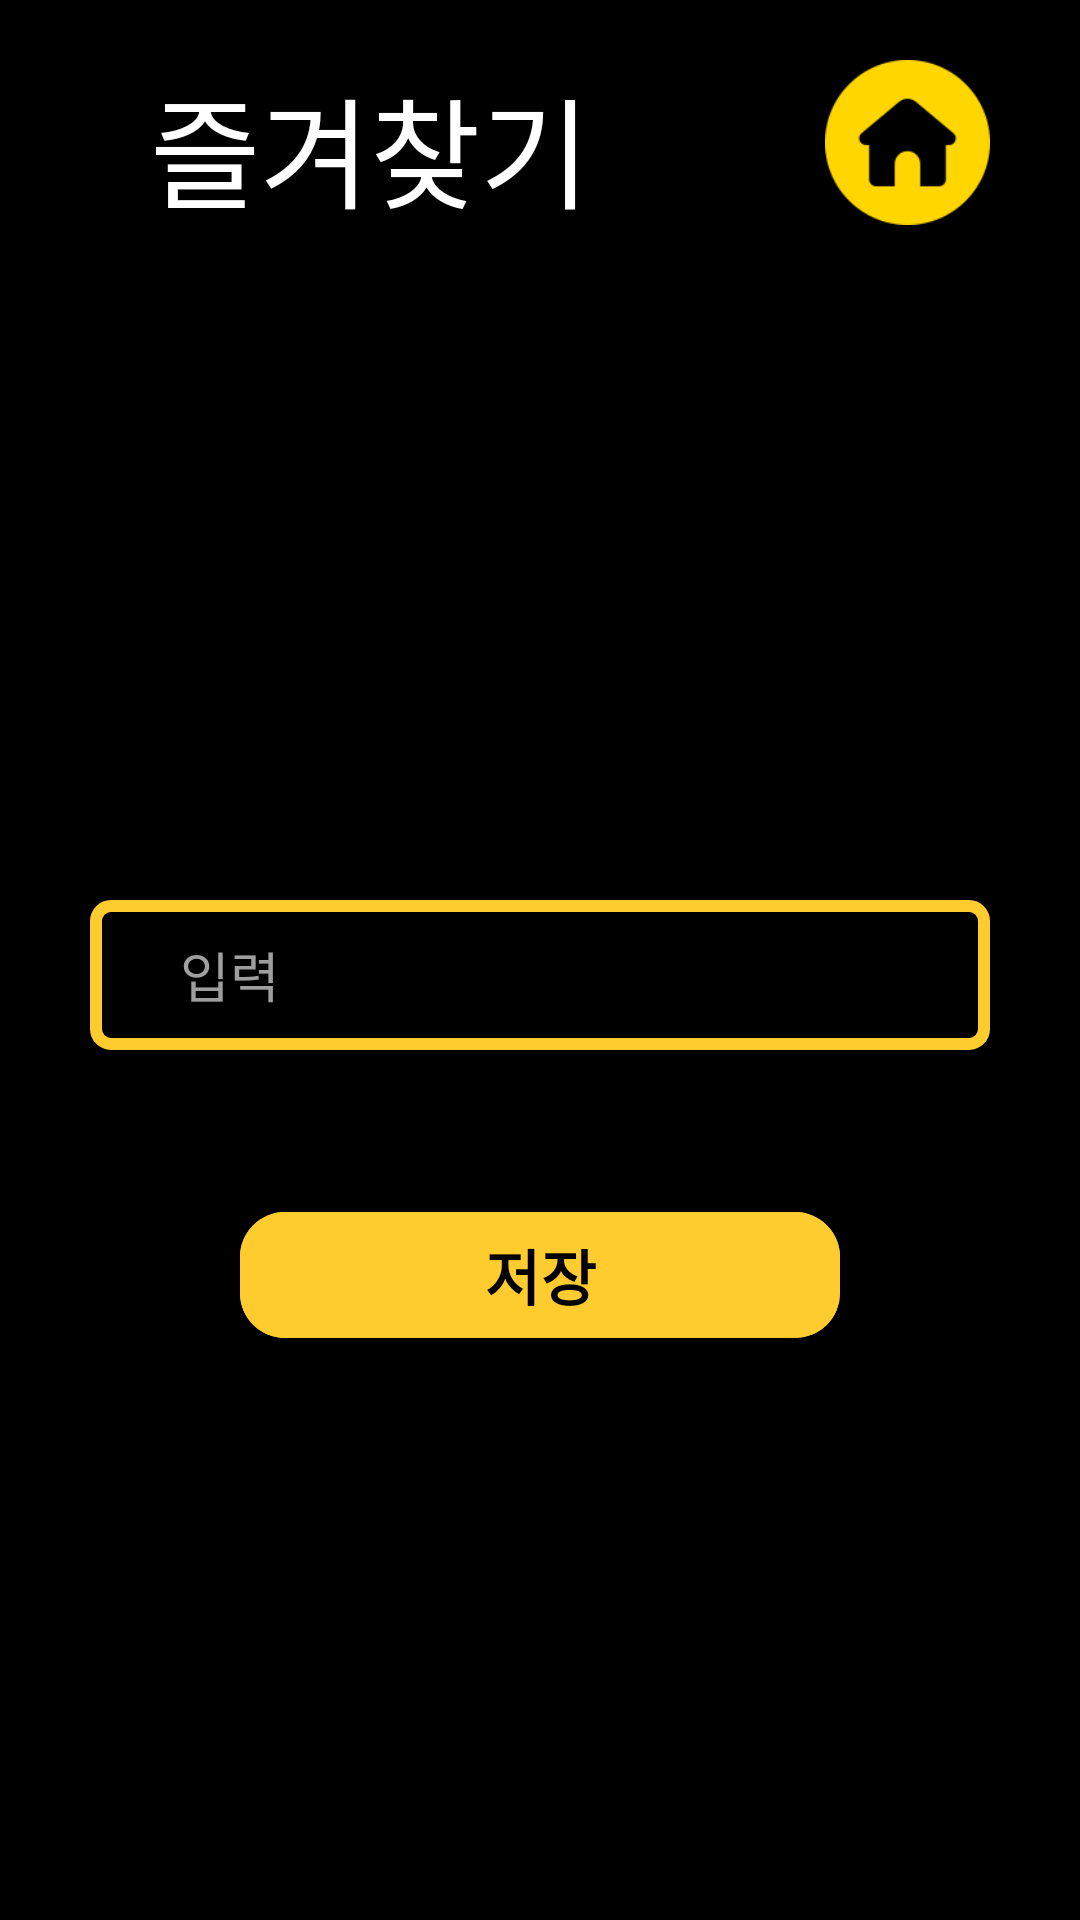

Where to tap for icons on this 1080px x 1920px app screen, as (x=x, y=y):
home: (x=907, y=142)
